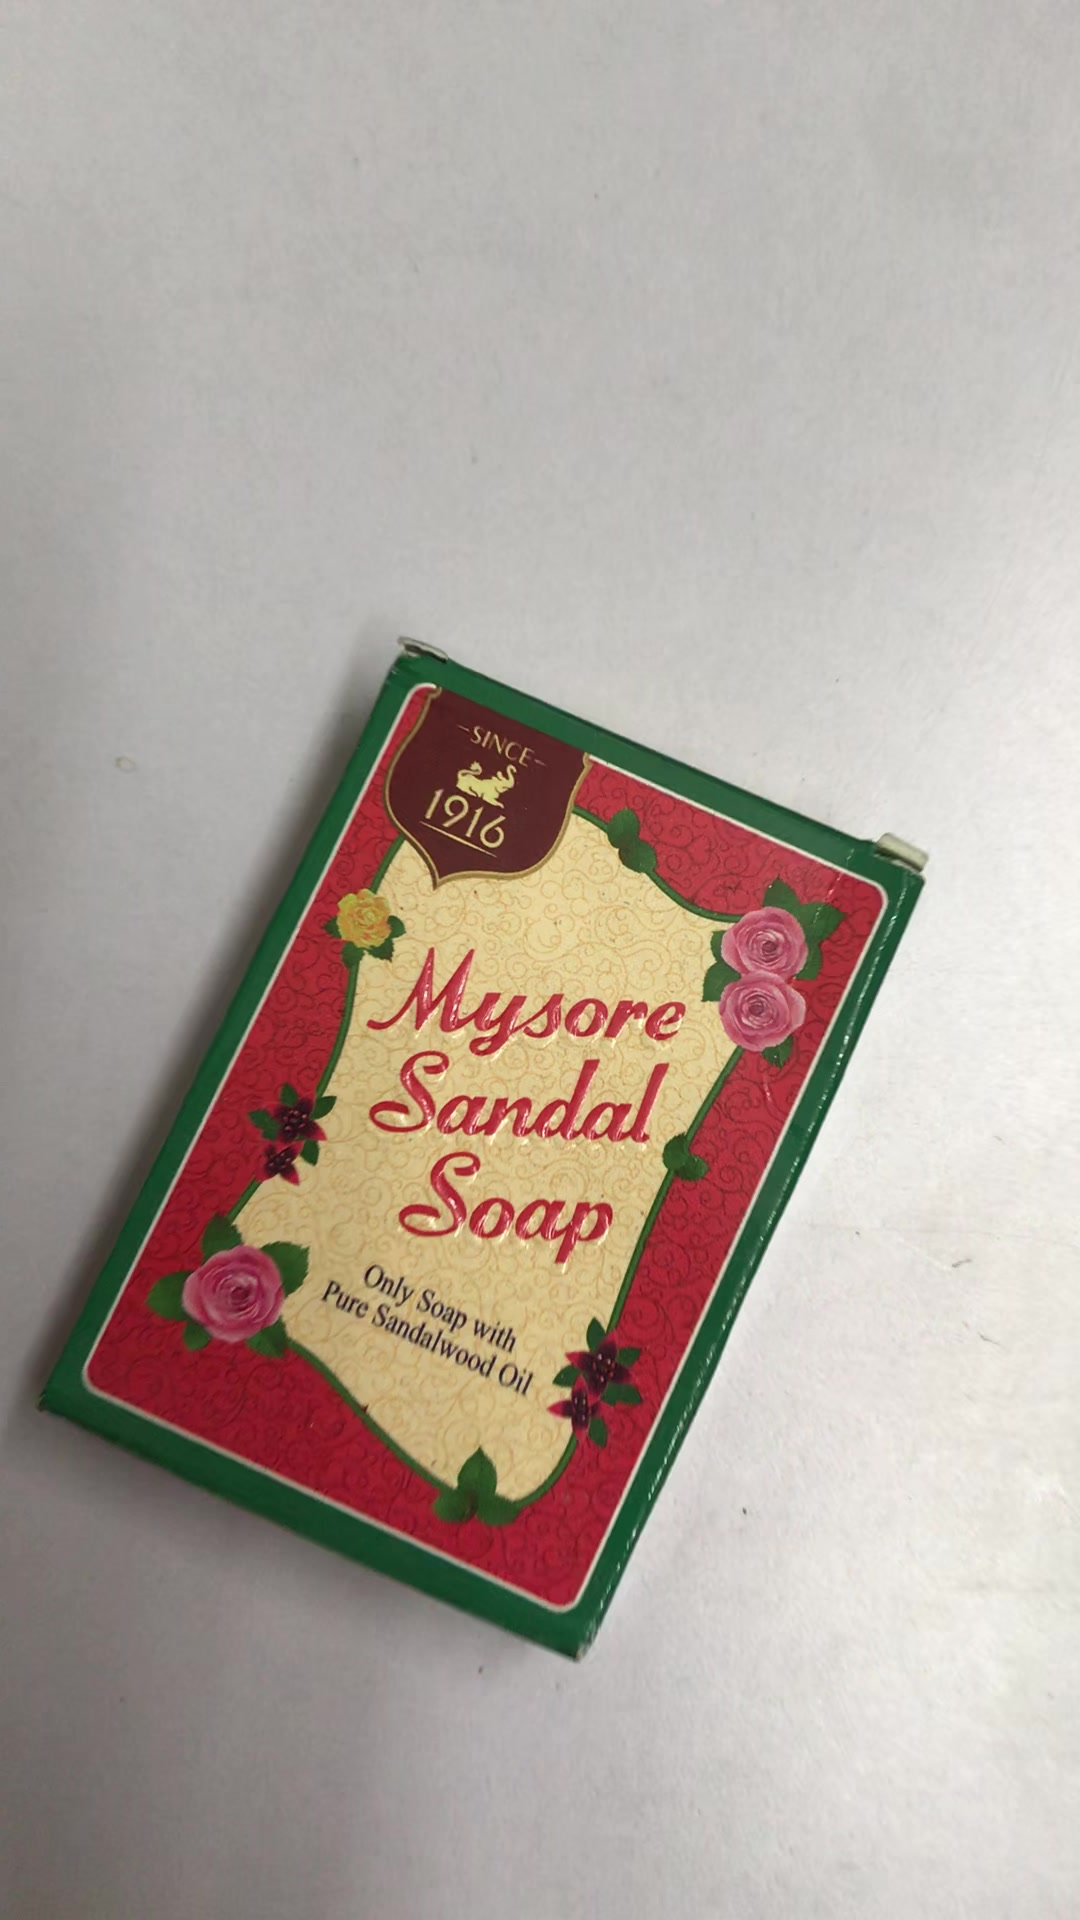mysore sandal soap: (47, 646, 940, 1662)
